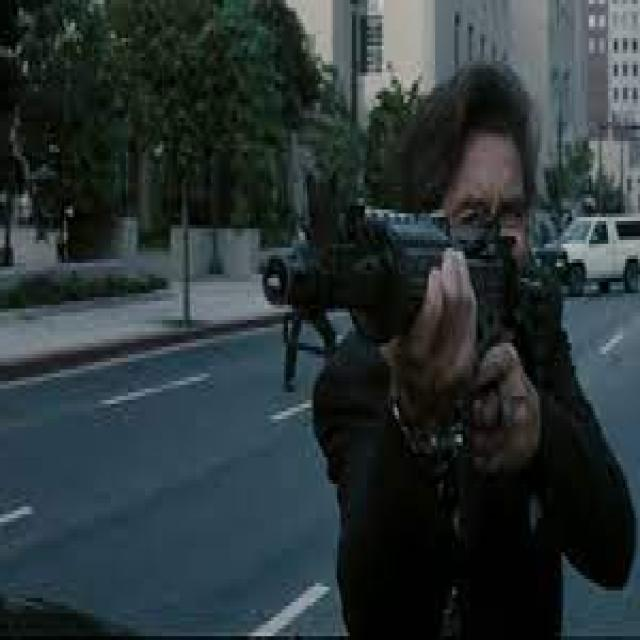weapons: (234, 188, 599, 430)
